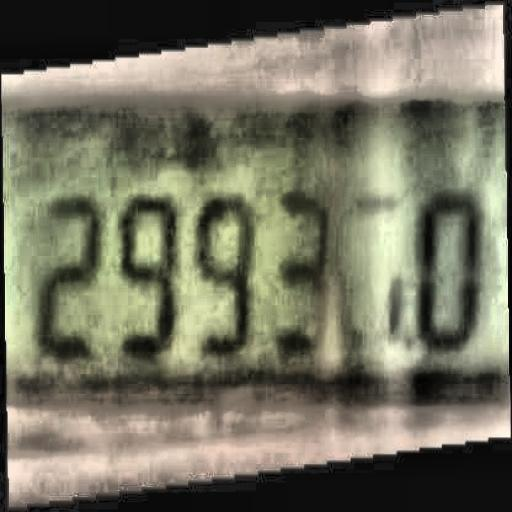DISPLAY_REGION: (1, 88, 509, 421)
SERIAL_REGION: (34, 194, 487, 356)
